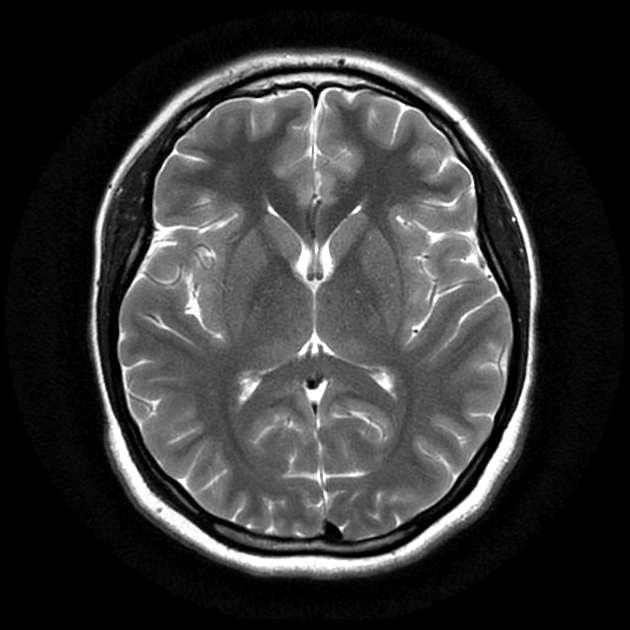Normal_Brain: (95, 30, 630, 587)
